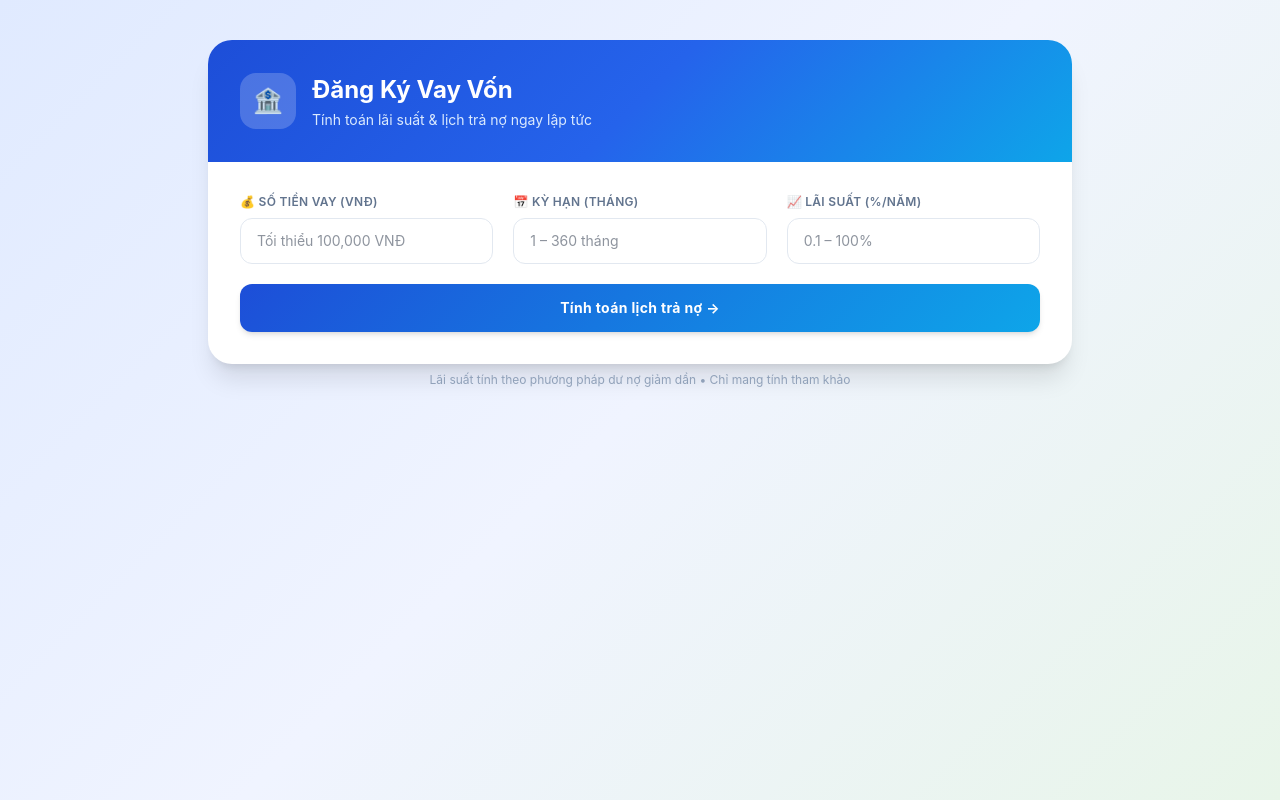
Test case: LoanRegistrationForm — validation errors › clears an error when the user starts typing in that field
Note: Submit to trigger errors
Click the button "Tính toán lịch trả nợ →" at {"x": 640, "y": 308}, box x1=240 y1=284 x2=1040 y2=332
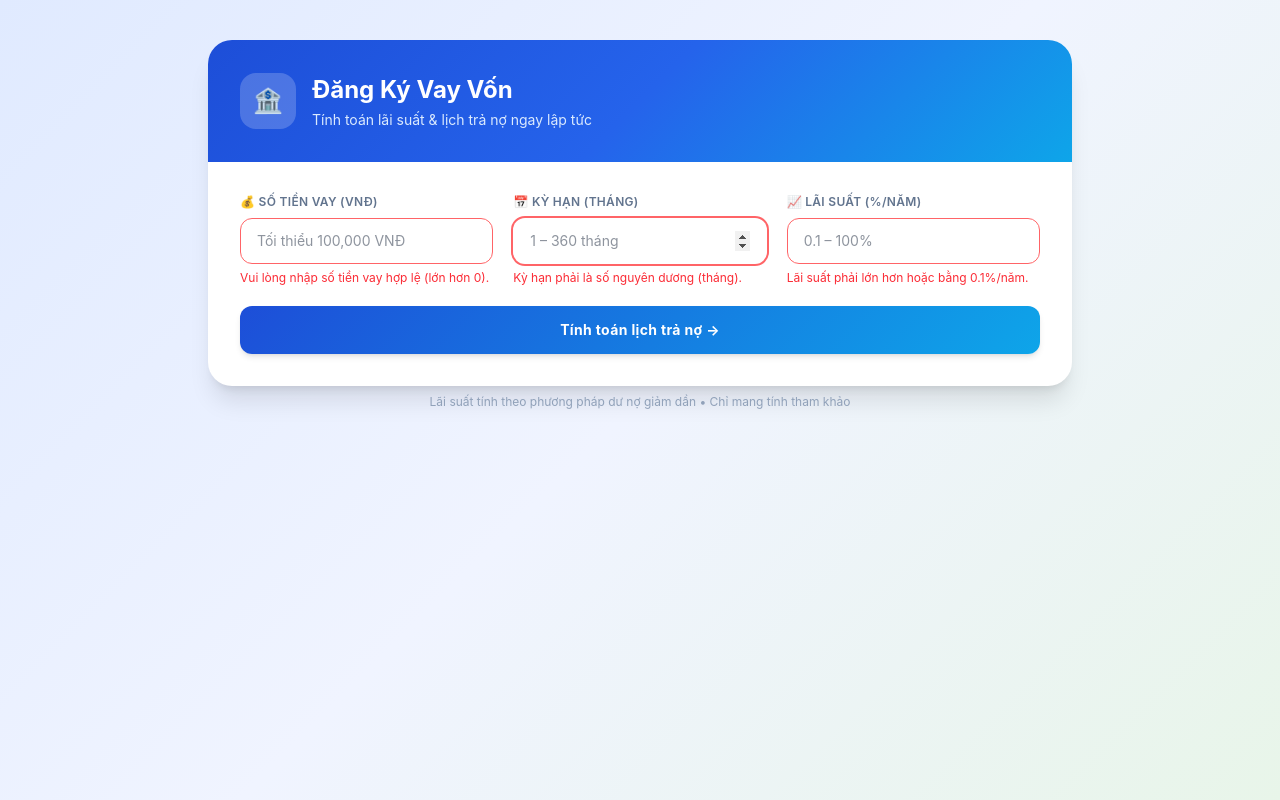
Check: the text "Kỳ hạn phải là số nguyên dương (tháng)." is shown, box x1=513 y1=270 x2=767 y2=286
Note: Type into term field — error should disappear
Type "12" into the number field labelled "📅 Kỳ hạn (tháng)" at {"x": 640, "y": 241}, box x1=513 y1=218 x2=767 y2=264
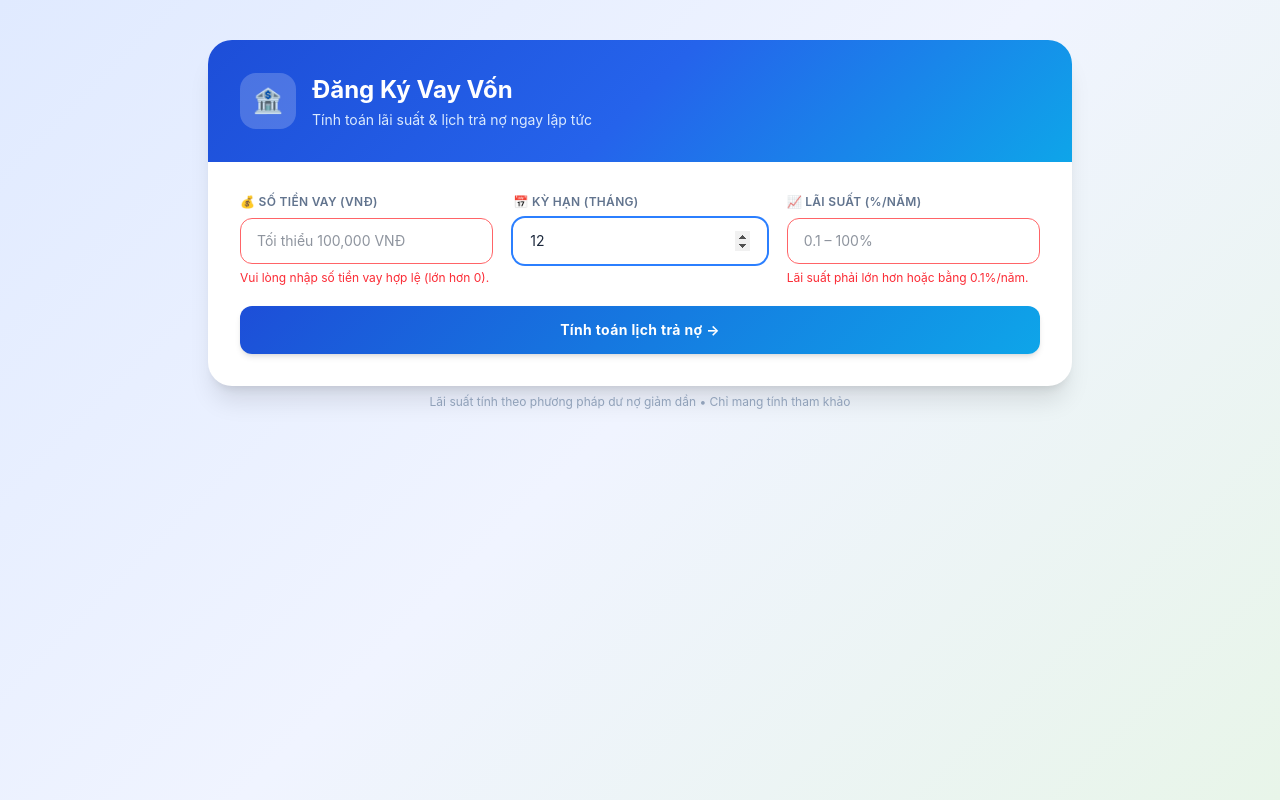
Check: the text "Kỳ hạn phải là số nguyên dương" is gone
